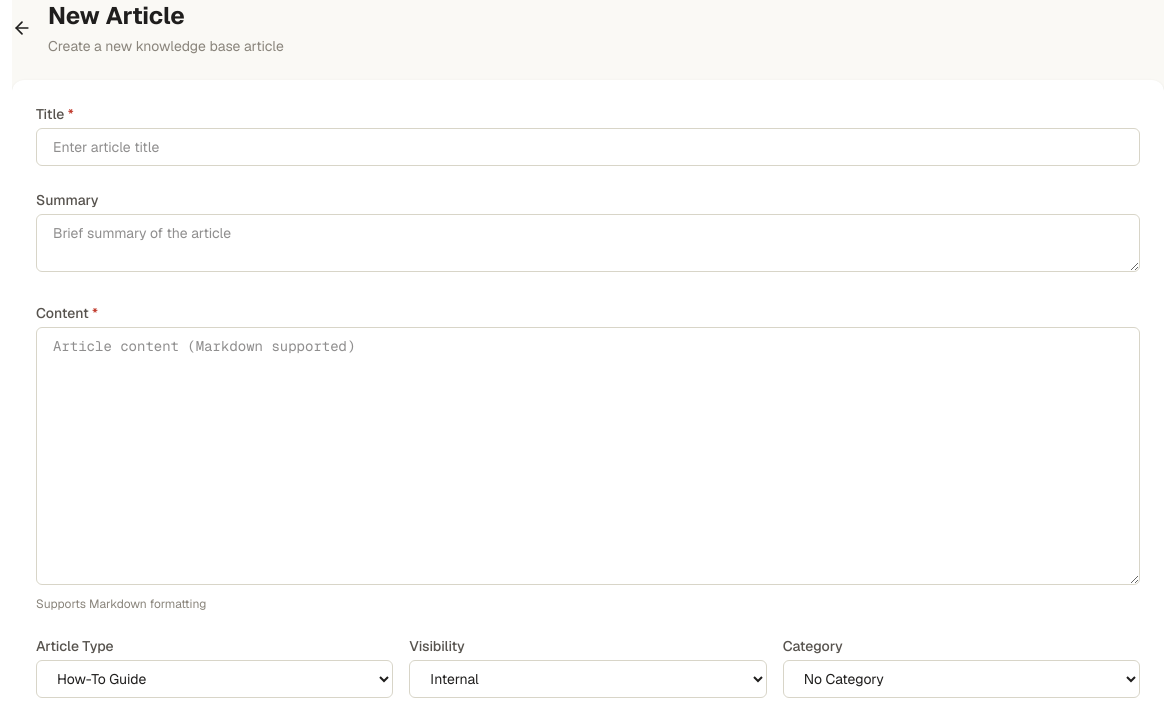
Test: NewArticlePage › Form Validation › shows error when title is too short
In the field labelled "Title *": (588, 147) x1=36 y1=128 x2=1140 y2=166, type "Hi"
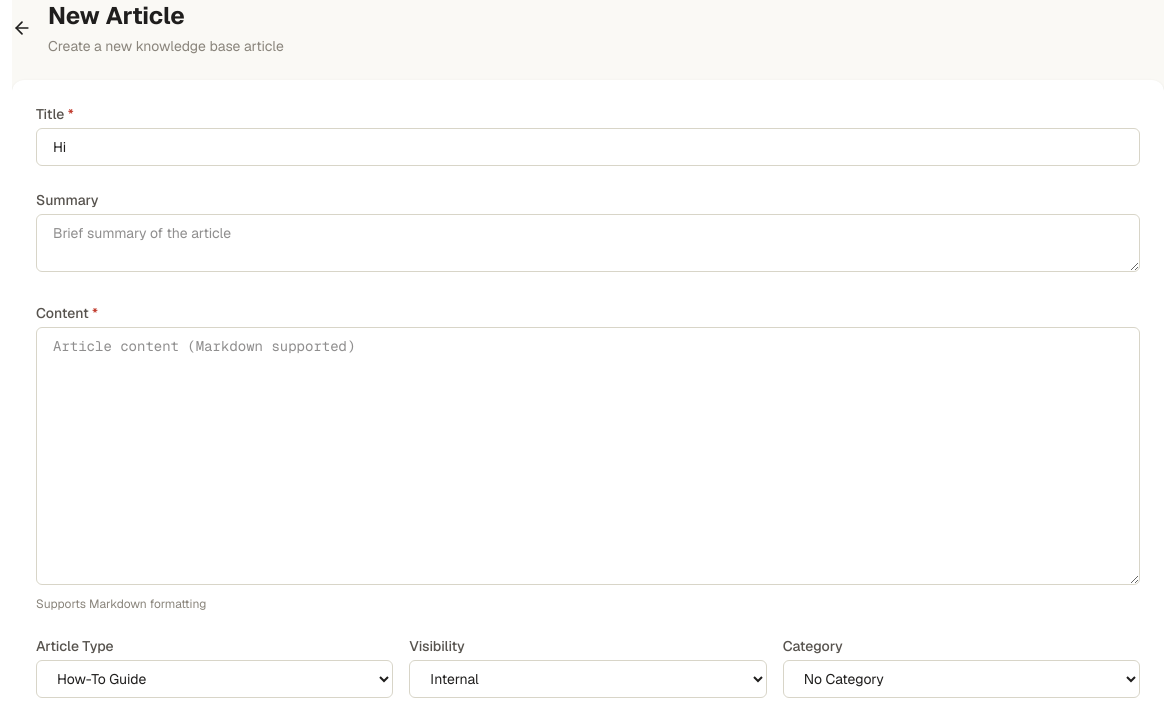
In the text box labelled "Content *": (588, 456) x1=36 y1=327 x2=1140 y2=585, type "Valid content here"
(page scrolled)
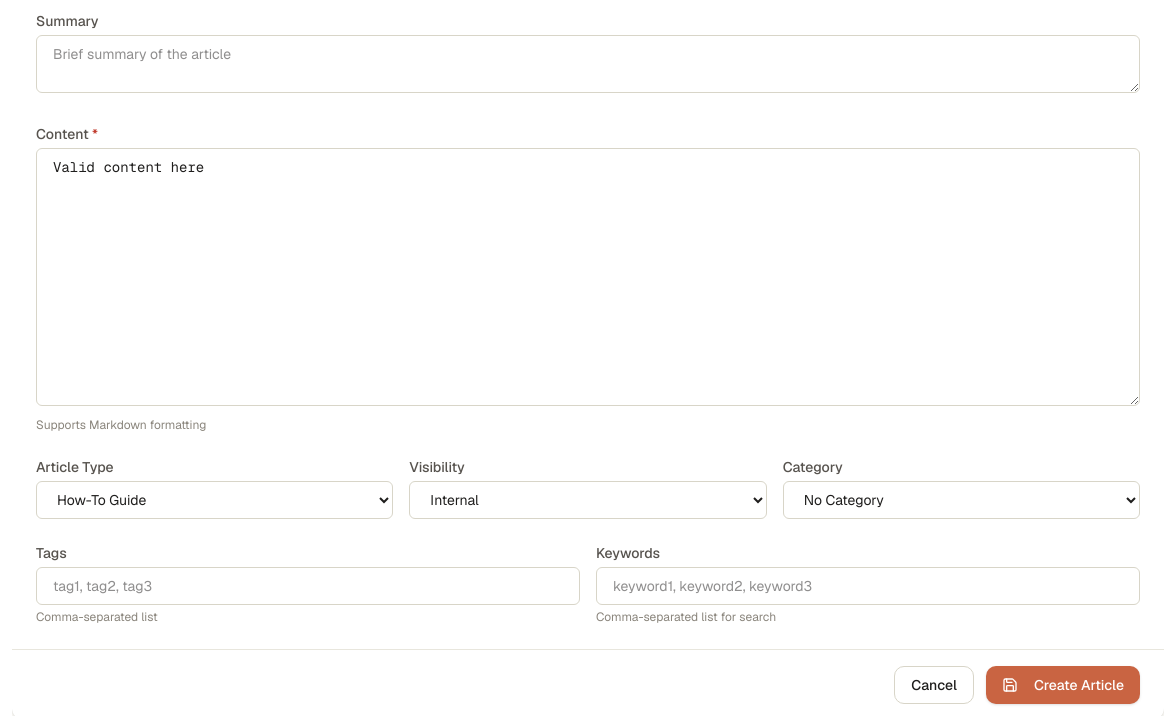
Click the button "Create Article": (1063, 685) x1=986 y1=666 x2=1140 y2=704
(page scrolled)
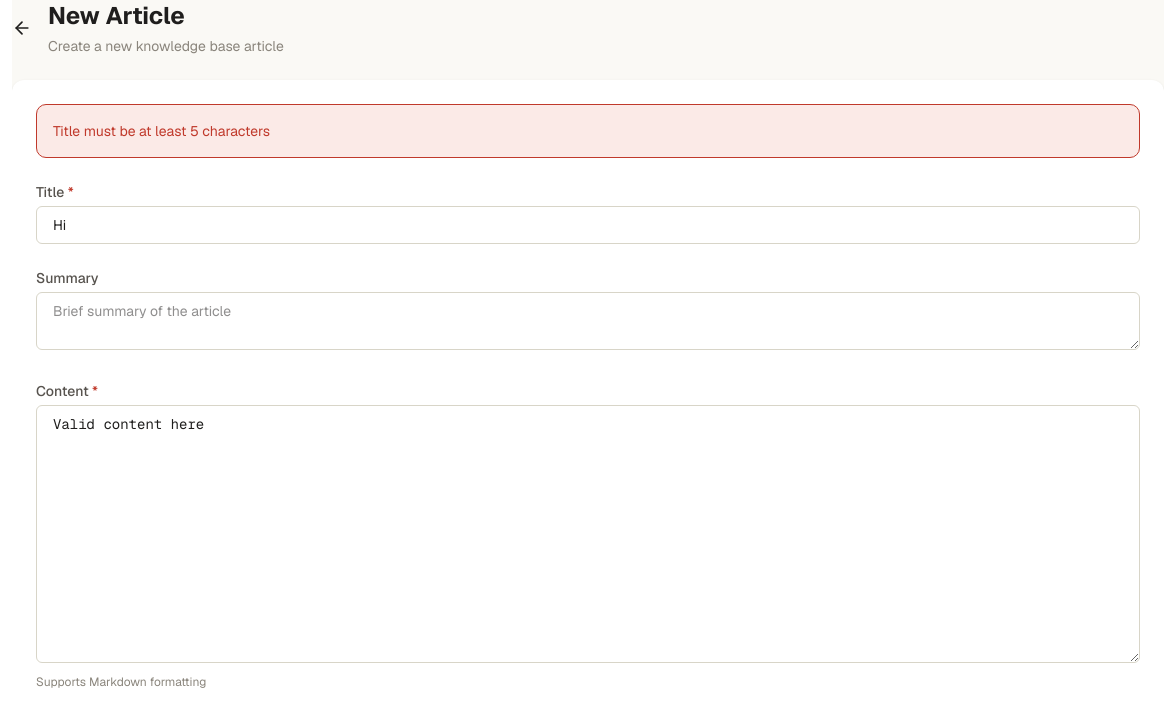
Expected: the text "Title must be at least 5 characters" is shown, x1=36 y1=104 x2=1140 y2=158
